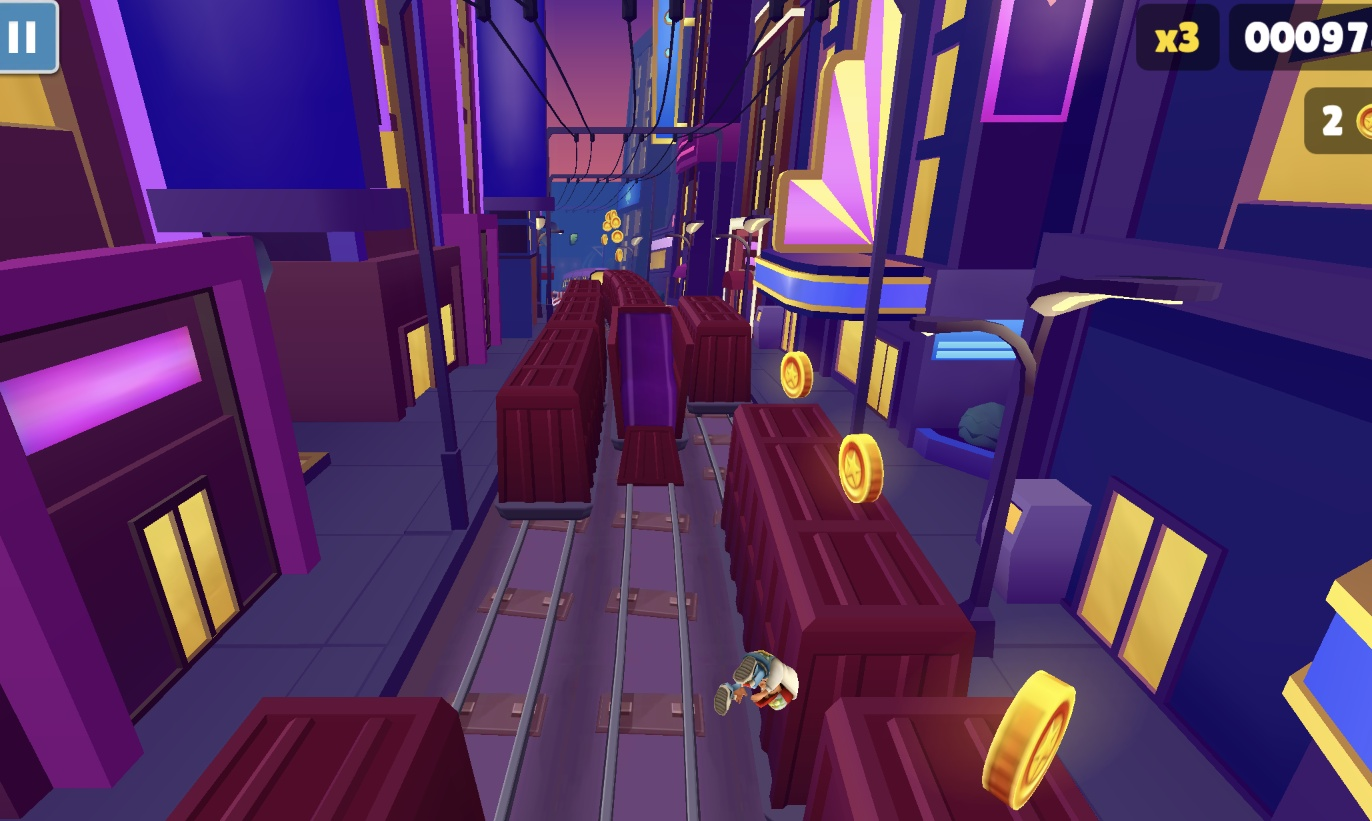train: (718, 405, 1119, 821), (176, 695, 483, 821), (490, 271, 606, 523), (605, 278, 685, 487), (675, 297, 753, 415), (591, 259, 627, 278)
